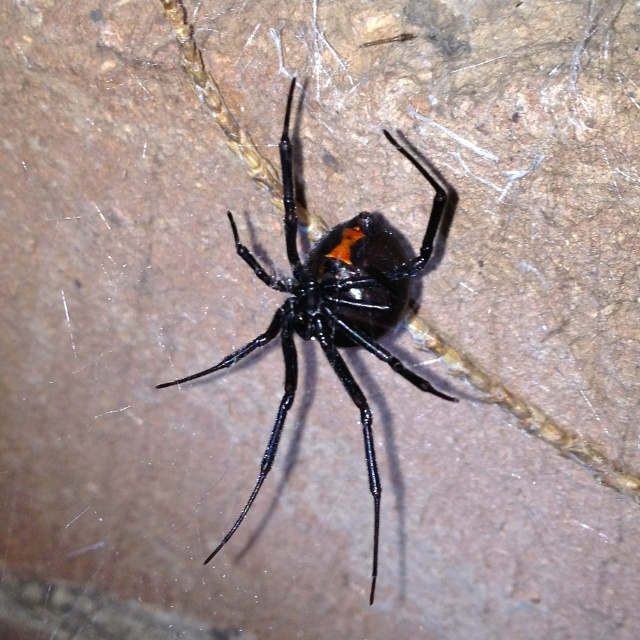Spider: (155, 76, 461, 607)
